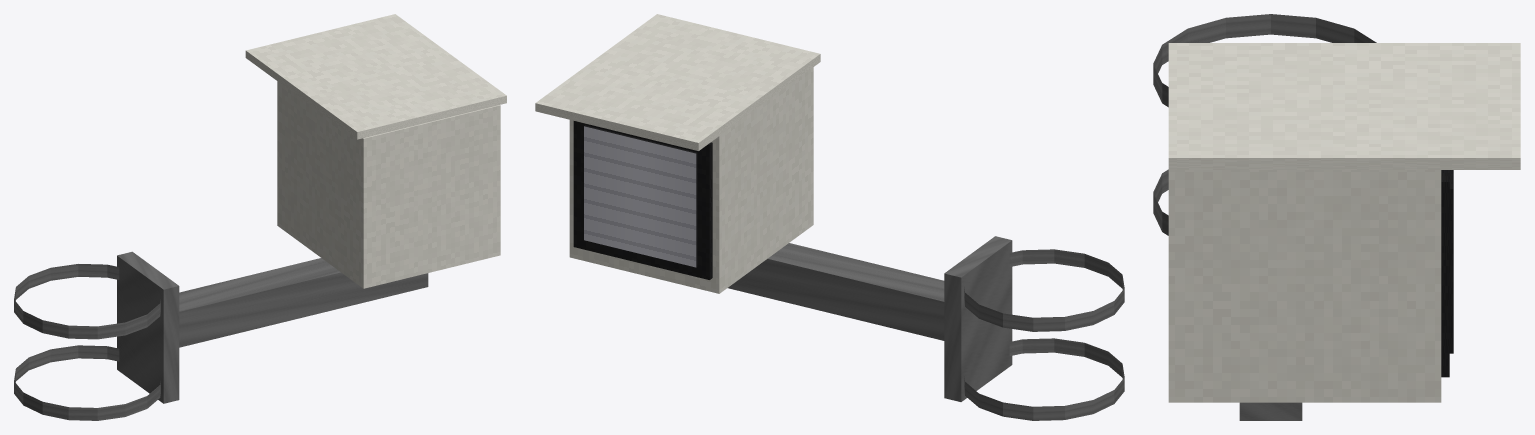
The model's file is flash_unit_side_left_pedestal.obj.
3 views of the same model, side by side, from view 1: azimuth 30°, elevation 25°; view 2: azimuth 150°, elevation 25°; view 3: azimuth 270°, elevation 25° (orthographic). The views are drawn at different scales.
Visible parts, largest first — view 1: flash_unit_side_left_pedestal; view 2: flash_unit_side_left_pedestal; view 3: flash_unit_side_left_pedestal.
Boxes of the visible parts, x1,y1,x2,y2 form: flash_unit_side_left_pedestal: [14, 14, 506, 420]; flash_unit_side_left_pedestal: [535, 14, 1124, 420]; flash_unit_side_left_pedestal: [1153, 14, 1520, 420].
Bounding box in the file's own units: 1.45 × 0.715 × 0.6475.
